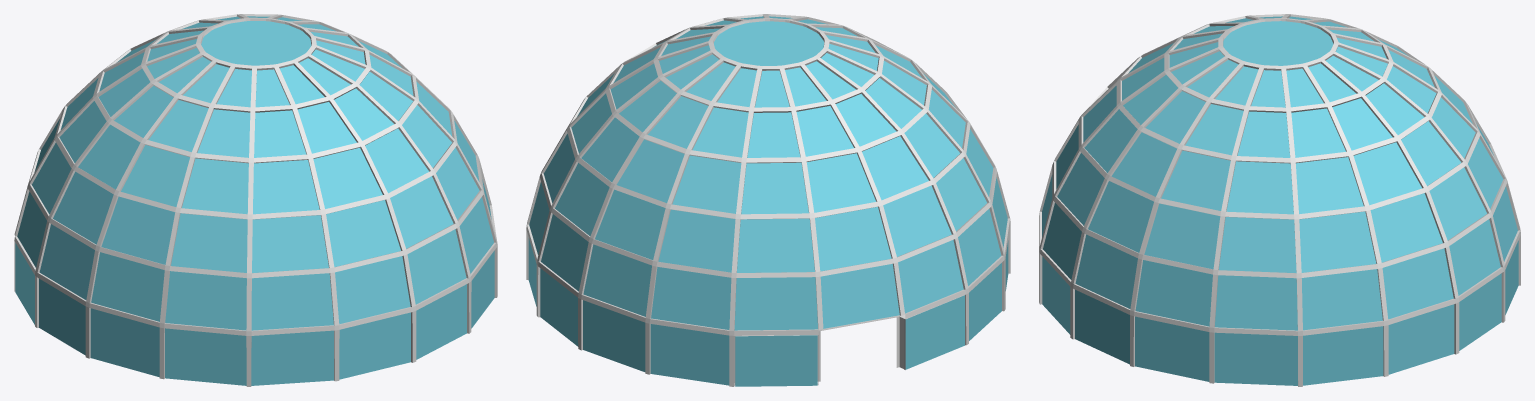
The model's file is dome2.fbx.
3 renders of one model, left to right at view 1: azimuth 30°, elevation 25°; view 2: azimuth 150°, elevation 25°; view 3: azimuth 270°, elevation 25°, orthographic.
Visible parts, largest first — view 1: Sphere.003; view 2: Sphere.003; view 3: Sphere.003.
Boxes of the visible parts, <box> form: Sphere.003: <box>14,14,497,386</box>; Sphere.003: <box>526,14,1010,386</box>; Sphere.003: <box>1039,14,1520,386</box>.
Size of the model in its own units: 199 by 110 by 199.
